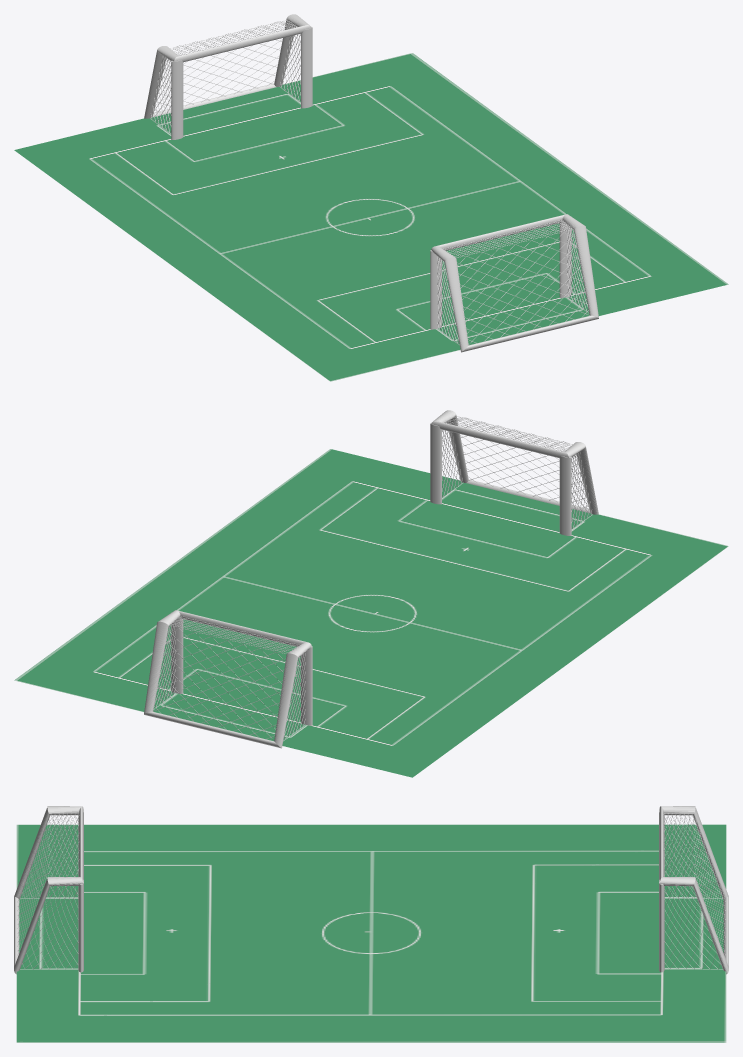
The model's file is playground.dae.
3 renders of one model, top to bottom at view 1: azimuth 30°, elevation 25°; view 2: azimuth 150°, elevation 25°; view 3: azimuth 270°, elevation 25°, orthographic. The views are drawn at different scales.
Visible parts, largest first — view 1: 平面, goal2, goal2.001; view 2: 平面, goal2.001, goal2; view 3: 平面, goal2, goal2.001.
Boxes of the visible parts, box(x1,y1,x2,y2) form: 平面: box(14, 53, 728, 381); goal2: box(430, 214, 598, 352); goal2.001: box(144, 14, 312, 139); 平面: box(14, 449, 728, 777); goal2.001: box(144, 610, 312, 748); goal2: box(430, 410, 598, 535); 平面: box(16, 824, 726, 1042); goal2: box(14, 806, 83, 974); goal2.001: box(659, 806, 728, 974).
Size of the model in its own units: 8 by 11.09 by 1.62.
Materials: 1 (1 with a texture image).
